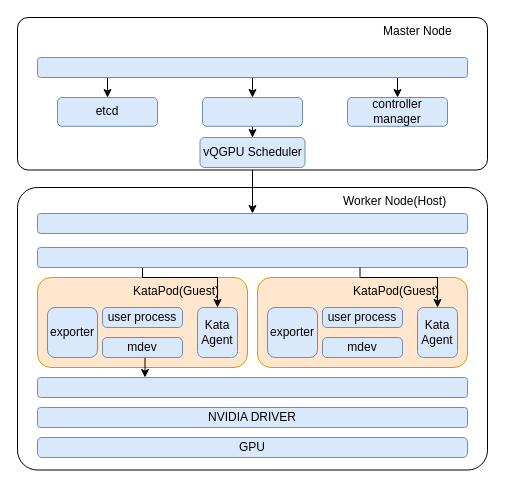
This 505x488 diagram has some shape labels left out. Each missing label, with the centre of its shape:
"API Server" goes at point (252, 67).
"ContainerD" goes at point (252, 257).
"Kubelet" goes at point (252, 223).
"Main Schduler" goes at point (252, 111).
"vQGPU DRIVER" goes at point (252, 387).
